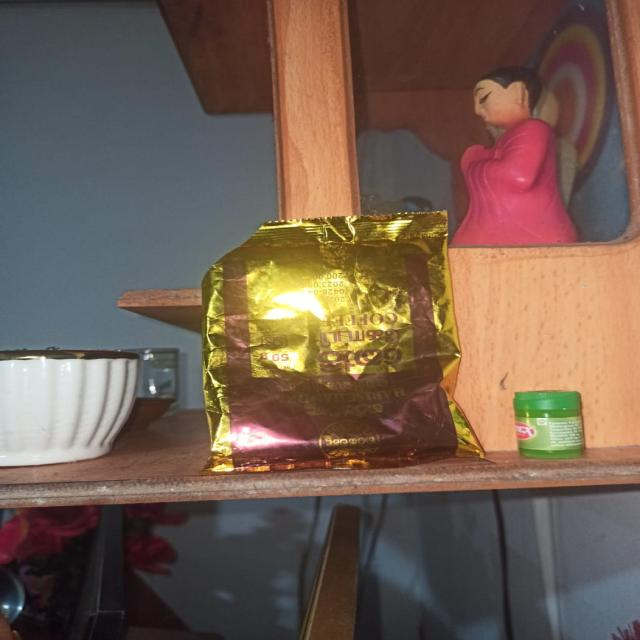Harischandra Coffee: (187, 214, 525, 495)
